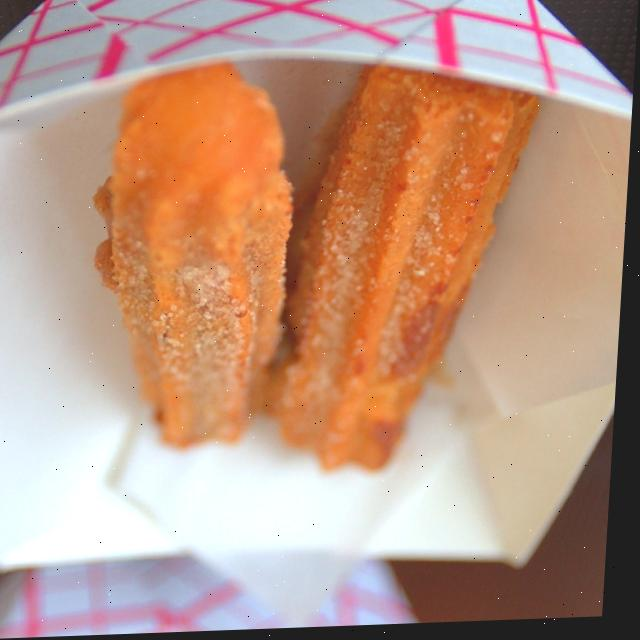炸货点心: (48, 27, 561, 529)
